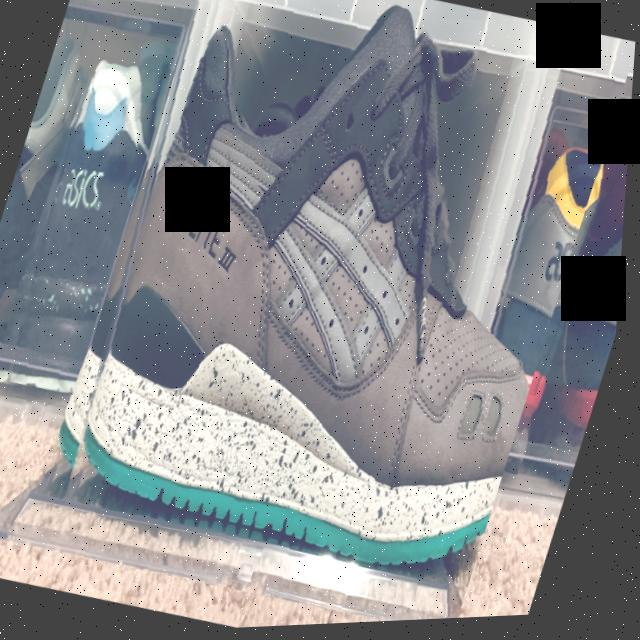shoe: (23, 0, 640, 638), (0, 19, 185, 398), (470, 120, 628, 409)
